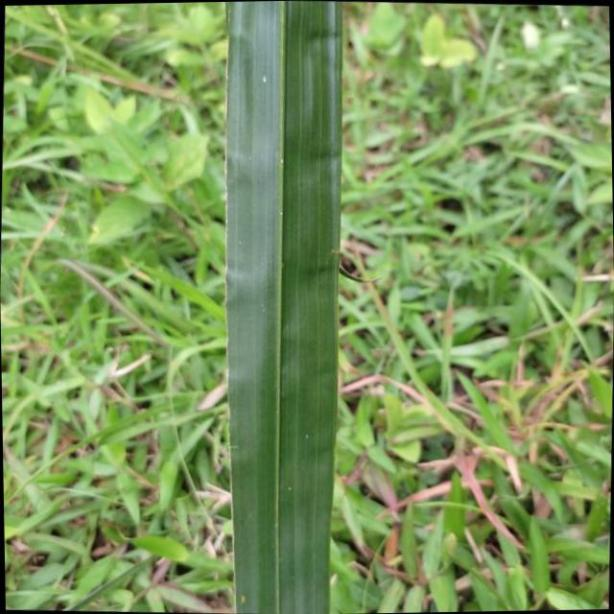Boron: (225, 1, 342, 614)
